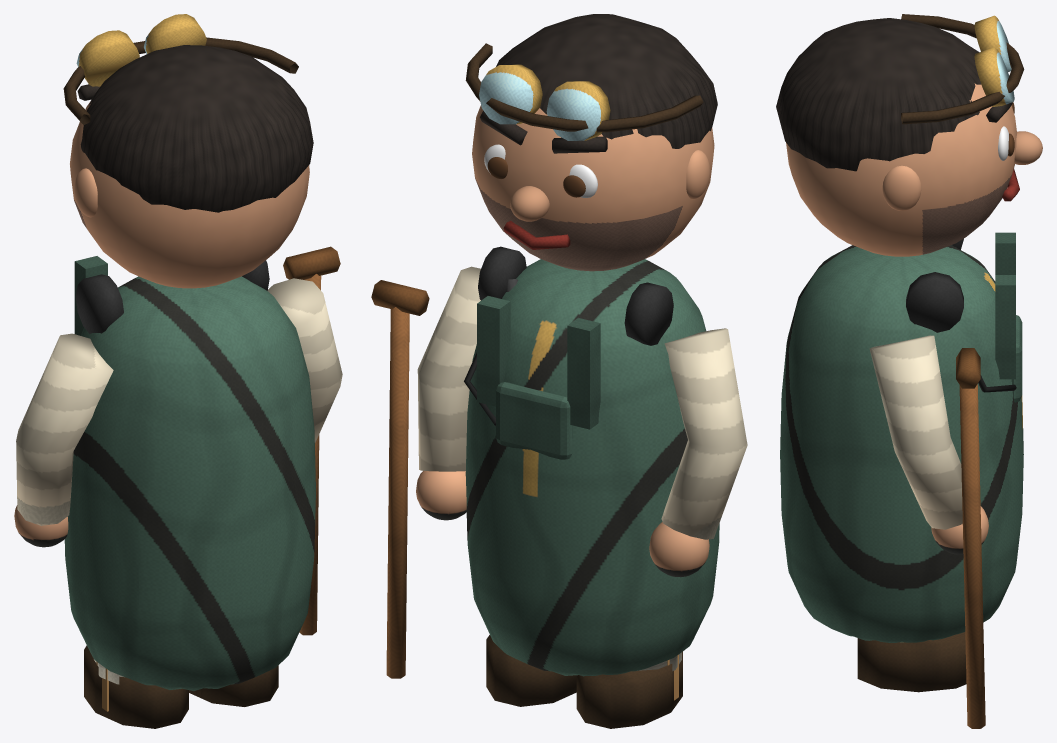
File: timur.glb
3 renders of one model, left to right at view 1: azimuth 30°, elevation 25°; view 2: azimuth 150°, elevation 25°; view 3: azimuth 270°, elevation 25°, orthographic. The views are drawn at different scales.
Visible parts, largest first — view 1: Body, Head; view 2: Body, Head; view 3: Body, Head.
Part boxes in pixels (x1,y1,x2,y2): Body: (14, 246, 342, 728); Head: (63, 14, 313, 288); Body: (371, 246, 747, 728); Head: (465, 14, 717, 271); Body: (780, 232, 1023, 728); Head: (776, 14, 1042, 256).
Bounding box in the file's own units: 0.9064 × 1.66 × 0.6436.
Materials: 1 (1 with a texture image).
